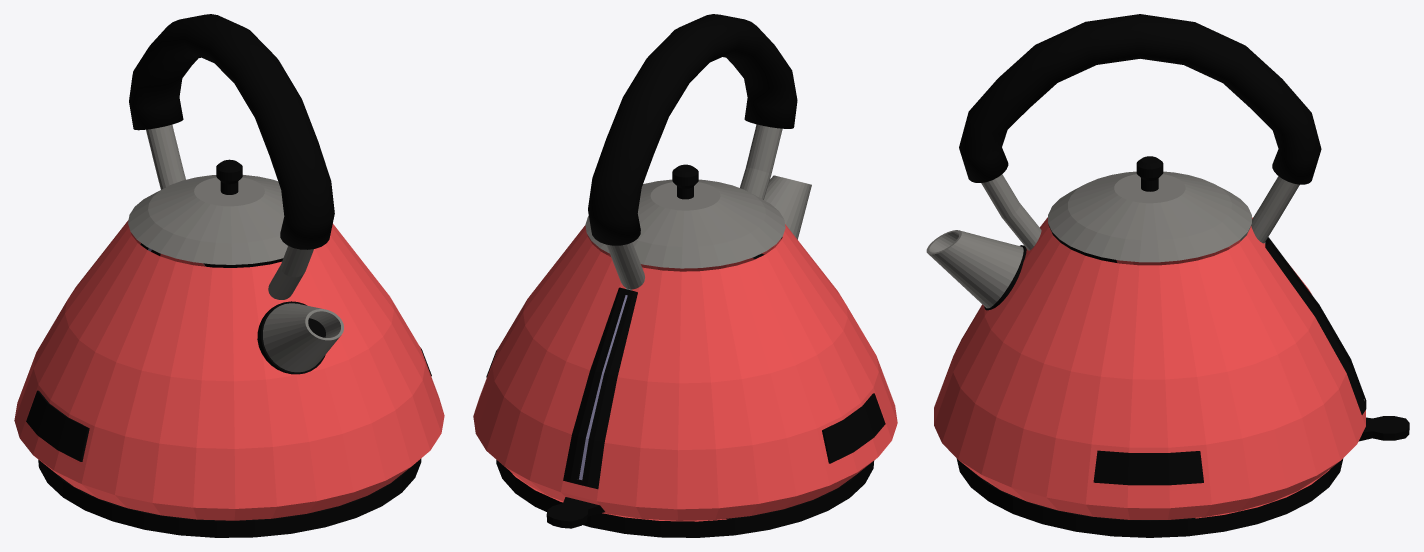
Rendered from _ettle.fbx.
The picture shows the model from 3 angles, left to right: view 1: azimuth 30°, elevation 25°; view 2: azimuth 150°, elevation 25°; view 3: azimuth 270°, elevation 25°; orthographic projection. The views are drawn at different scales.
Parts seen in each view (by area): view 1: Cylinder.026; view 2: Cylinder.026; view 3: Cylinder.026.
Part boxes in pixels (box(x1,y1,x2,y2)): Cylinder.026: box(14, 14, 444, 537); Cylinder.026: box(473, 14, 897, 537); Cylinder.026: box(926, 14, 1409, 537).
Bounding box in the file's own units: 32.18 × 35.96 × 35.96.
